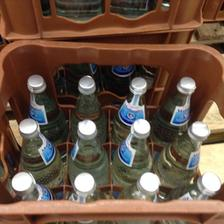Wasser: (153, 119, 209, 190), (16, 118, 62, 182), (108, 74, 153, 134), (108, 118, 150, 182), (68, 118, 108, 184), (68, 74, 108, 140), (23, 70, 63, 134), (151, 76, 193, 132)
